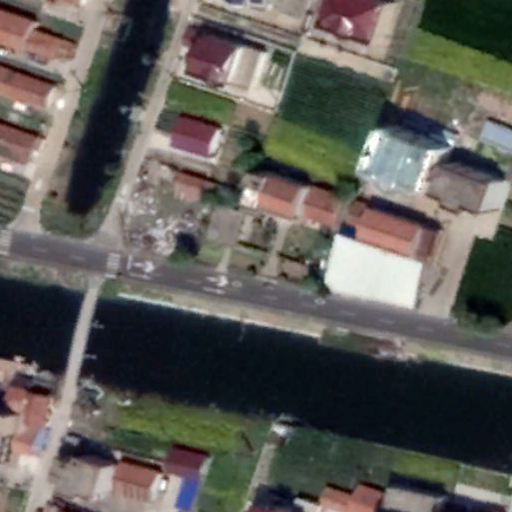msw: (128, 186, 198, 257)
